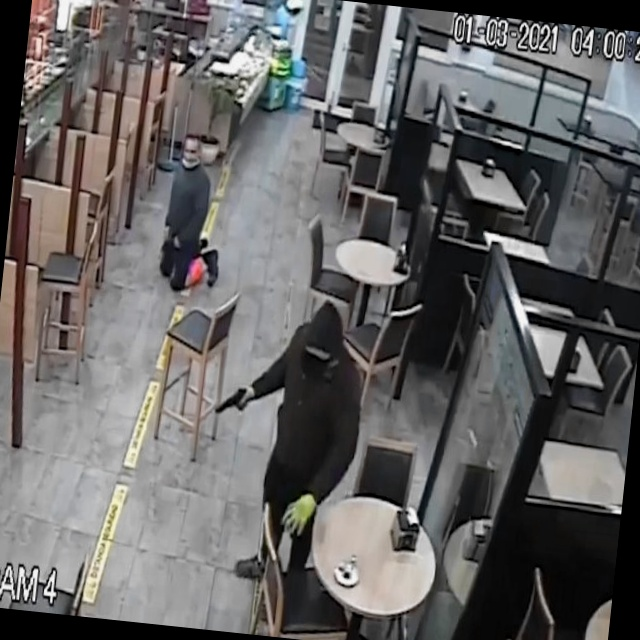gun: (201, 376, 260, 439)
